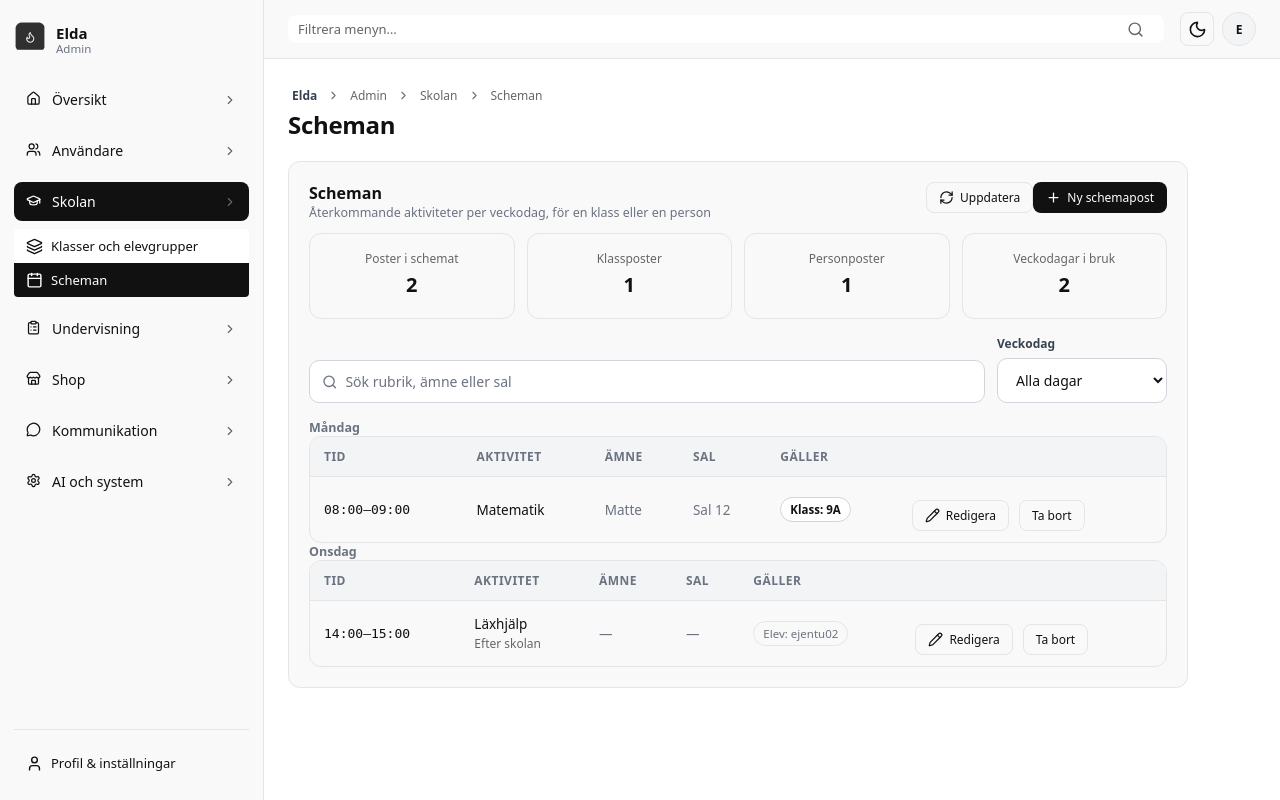
Test case: scheman › stoppar en schemapost med sluttid före starttid
The image size is (1280, 800).
Check: the text "Matematik" is shown, box [462,476,591,542]
Click the button "Ny schemapost" at [1100, 198], box [1033,182,1167,213]
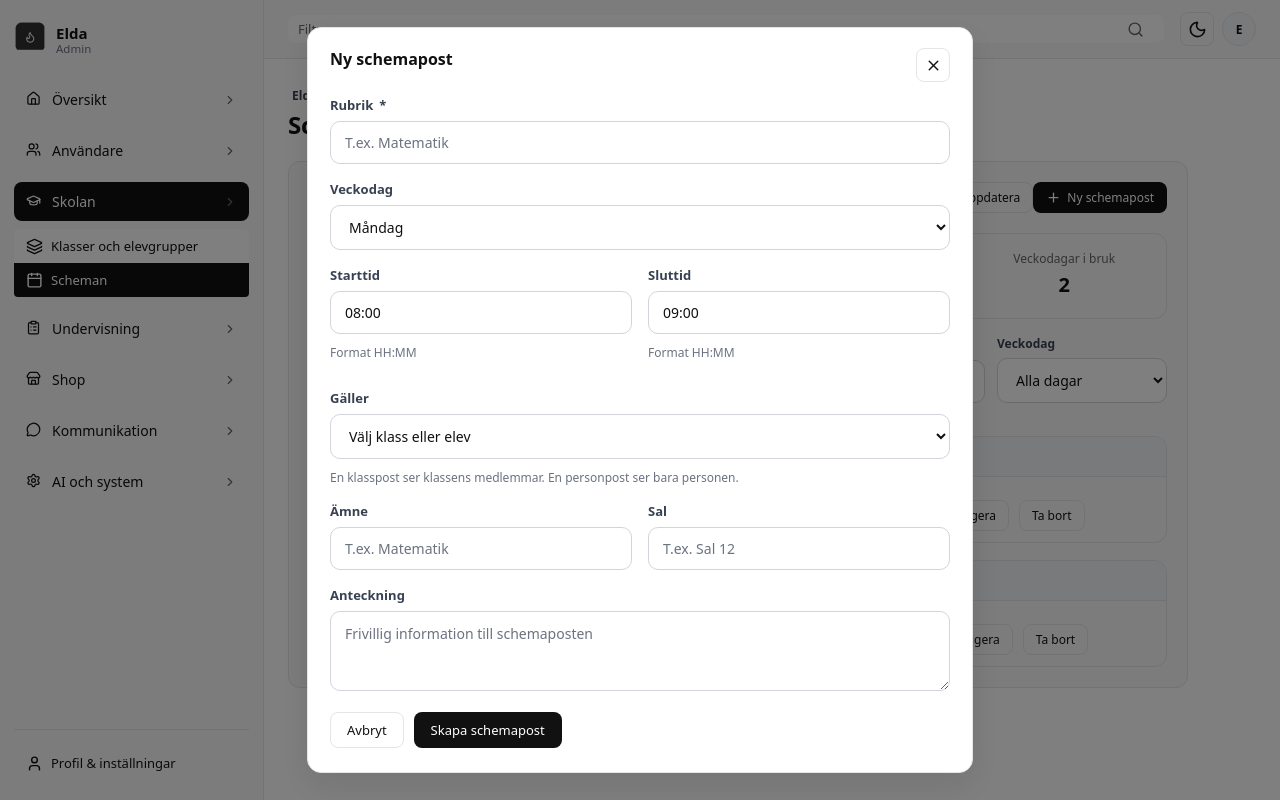
Type "Engelska" into the field labelled "Rubrik *" at [640, 142], box [330,121,950,164]
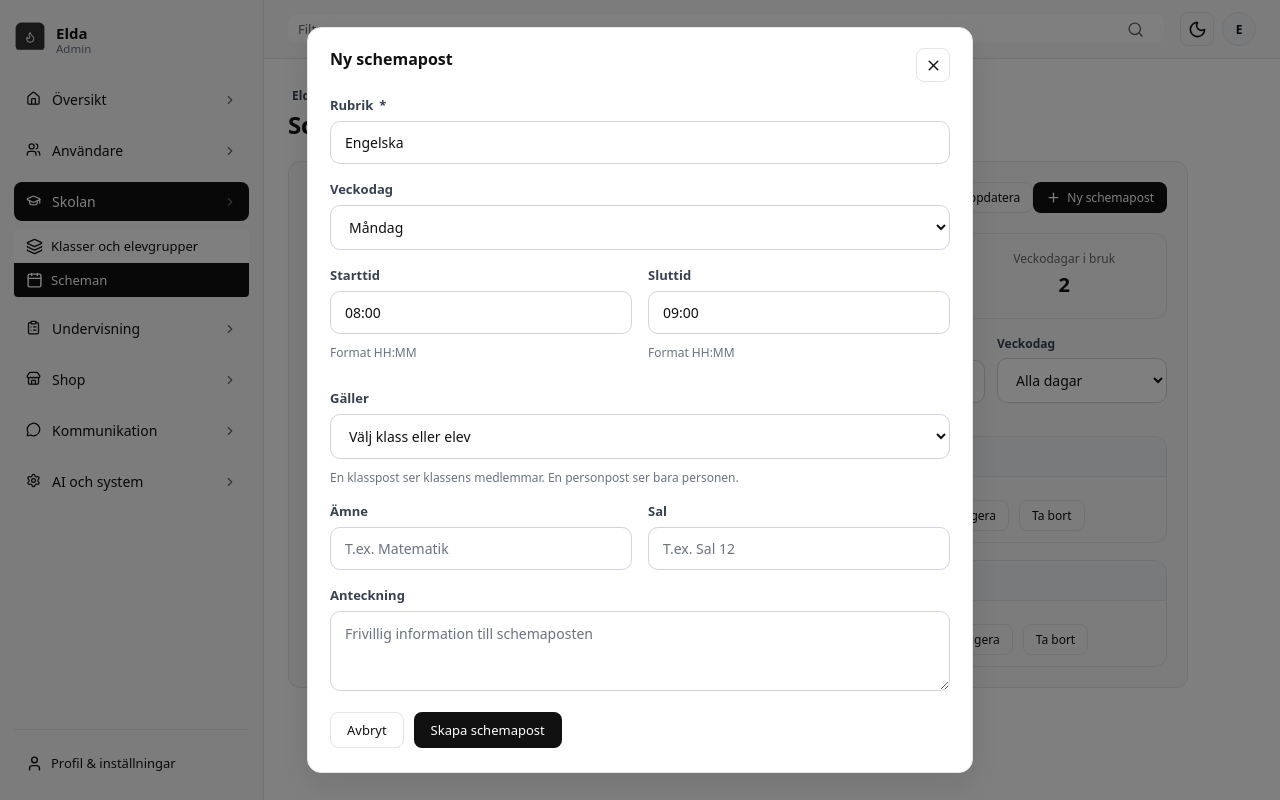
Type "11:00" into the field labelled "Starttid" at [481, 312], box [330,291,632,334]
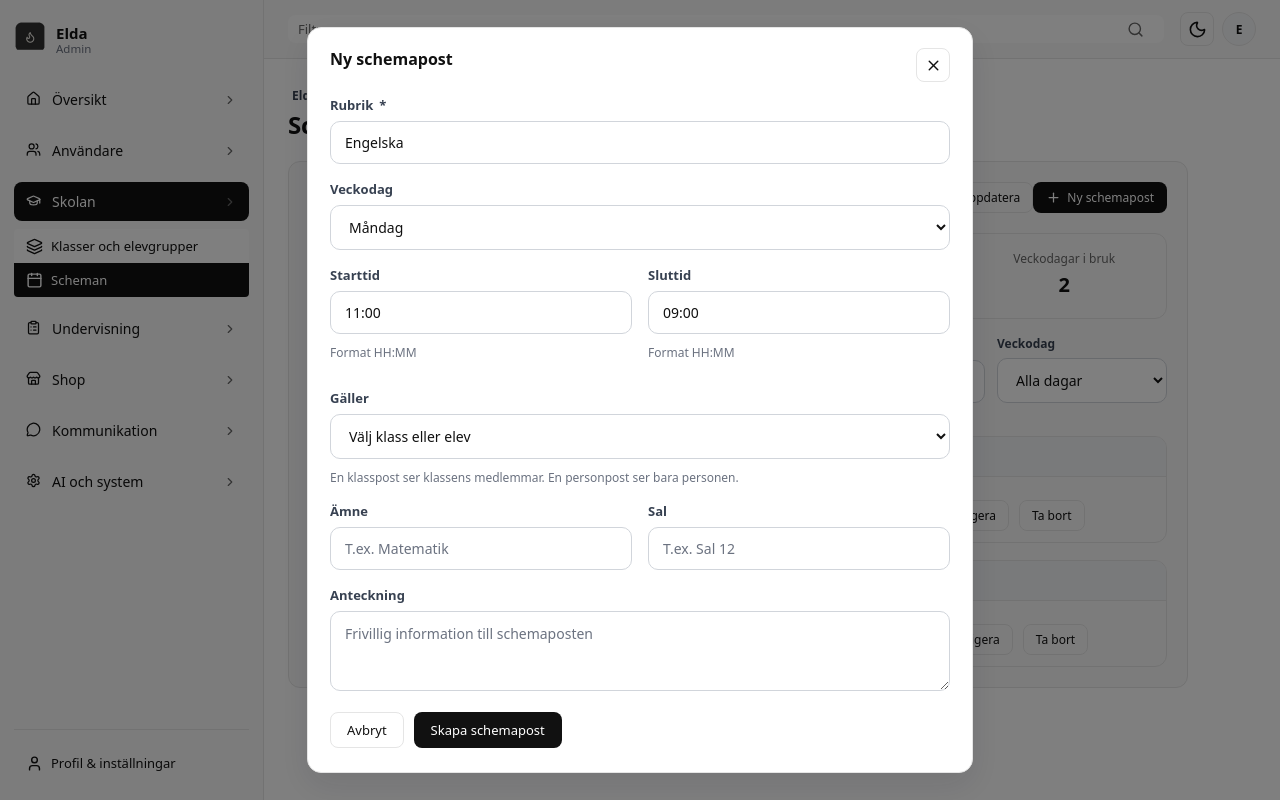
Type "10:00" into the field labelled "Sluttid" at [799, 312], box [648,291,950,334]
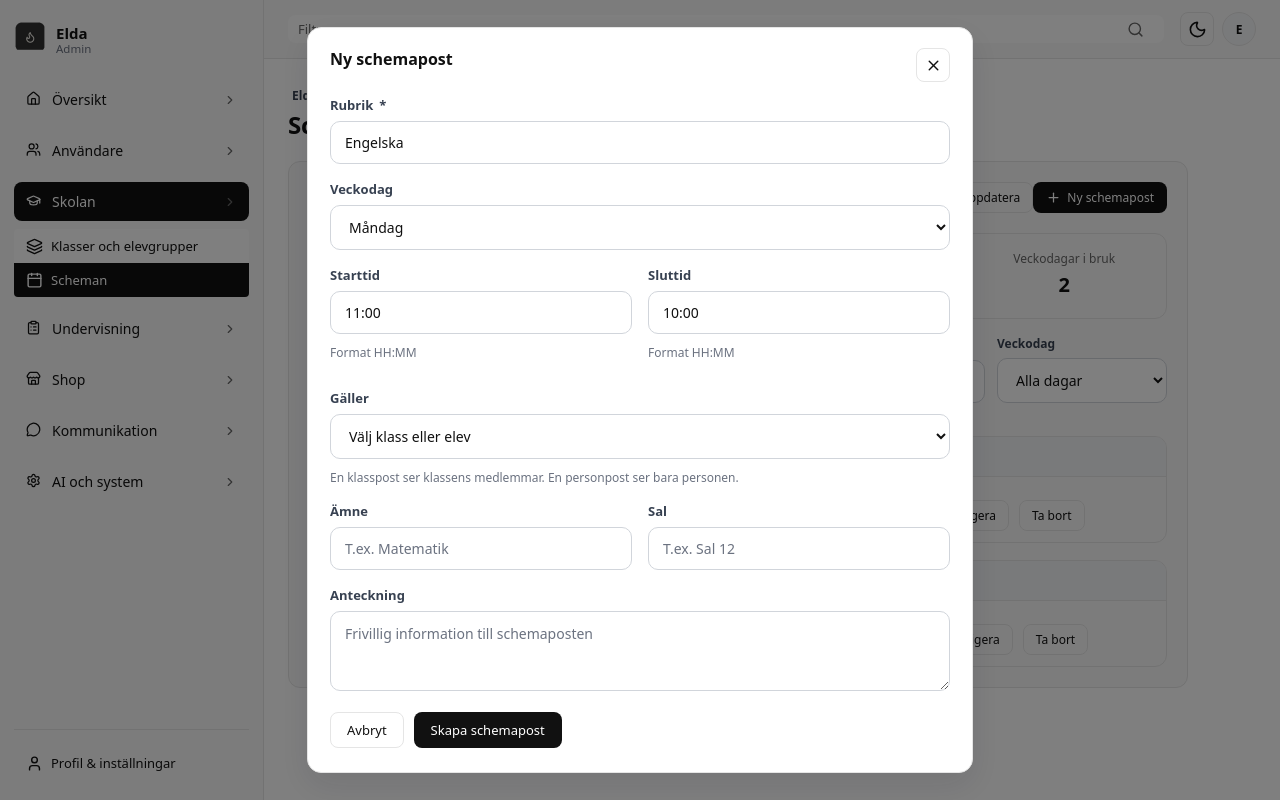
Select "Klass: 9A" in the dropdown labelled "Gäller" at [640, 436], box [330,414,950,459]
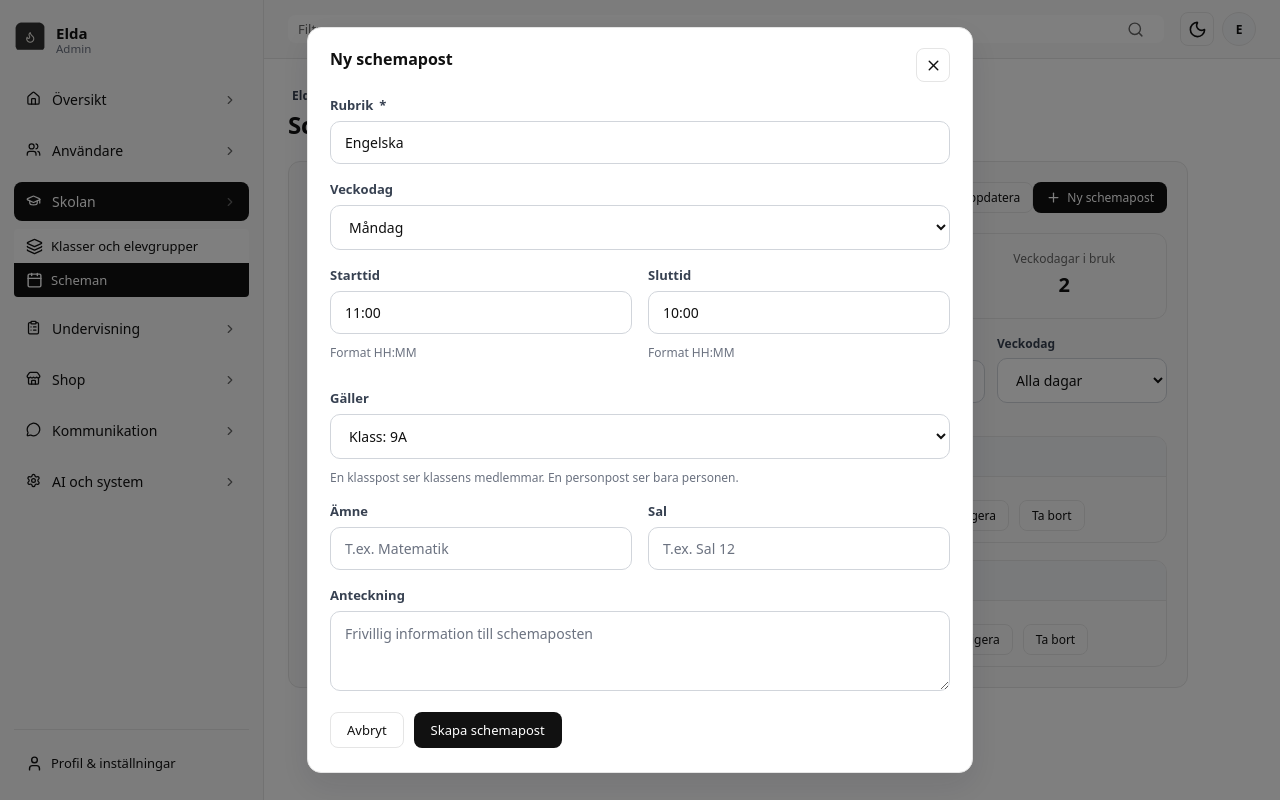
Click the button "Skapa schemapost" at [488, 730], box [414,712,562,748]
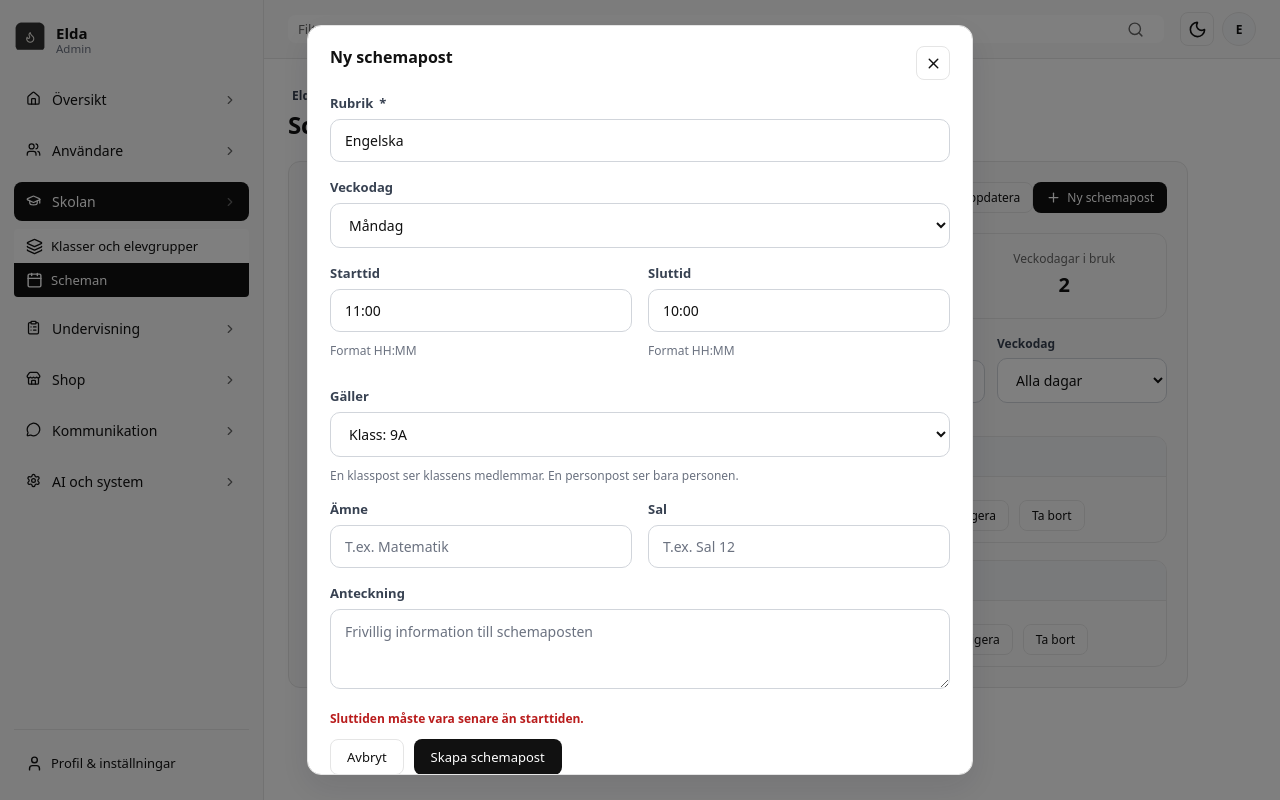
Check: the message with test id "schedule-error" shows "senare", box [330,710,584,727]
